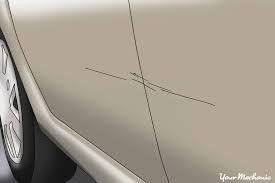doorouter-dent: (131, 0, 274, 173), (16, 0, 132, 169)
